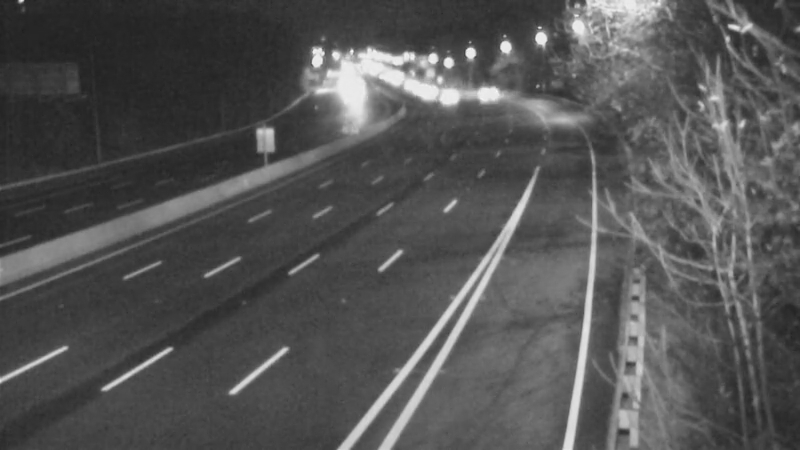vehicle: (391, 63, 441, 113), (421, 72, 471, 122), (451, 64, 501, 114)
